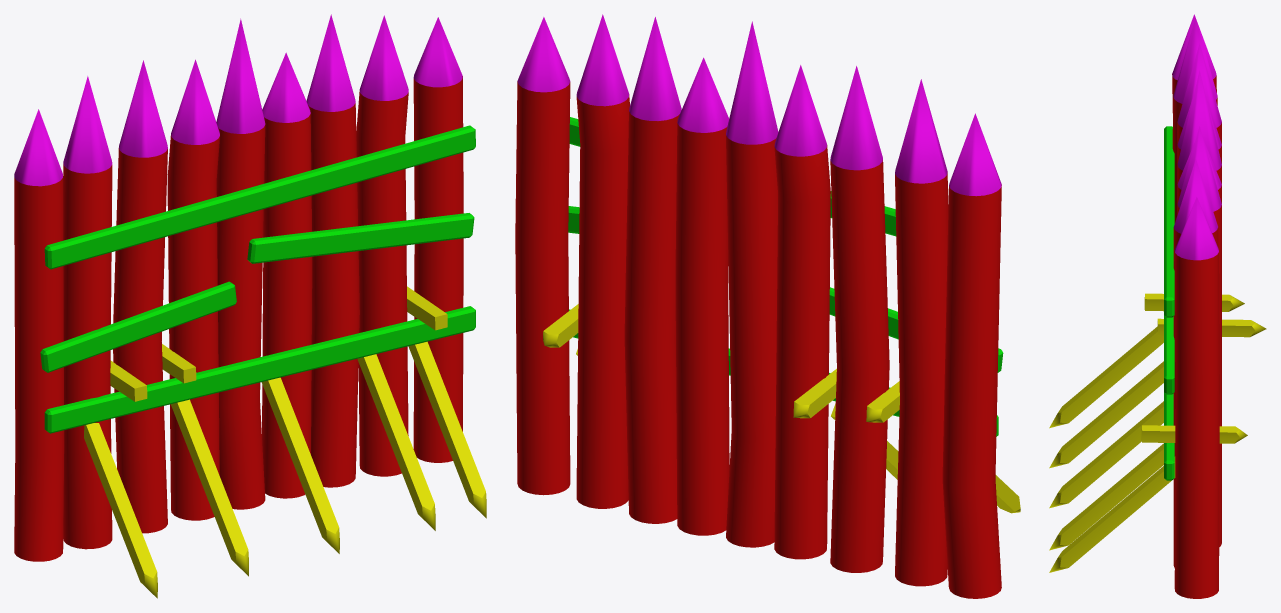
File: SM_palisade.fbx
3 renders of one model, left to right at view 1: azimuth 30°, elevation 25°; view 2: azimuth 150°, elevation 25°; view 3: azimuth 270°, elevation 25°, orthographic. The views are drawn at different scales.
Parts seen in each view (by area): view 1: SM_palisade; view 2: SM_palisade; view 3: SM_palisade.
Boxes of the visible parts, box(x1,y1,x2,y2) form: SM_palisade: box(14, 14, 486, 598); SM_palisade: box(515, 14, 1020, 598); SM_palisade: box(1049, 14, 1266, 598).
Size of the model in its own units: 7.85 by 8.11 by 3.69.
